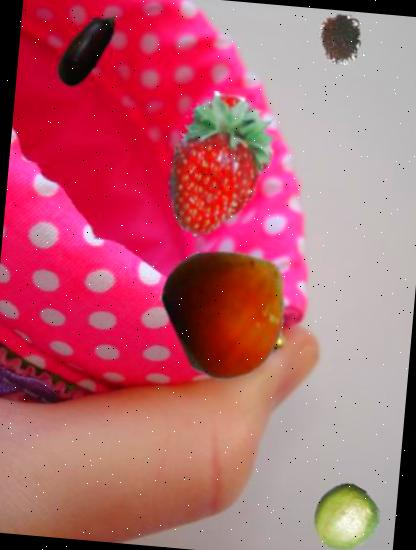Eggplant: (40, 1, 135, 96)
Limes: (309, 482, 382, 550)
Nut: (158, 237, 304, 382)
Rambutan: (312, 12, 368, 68)
Strawberry: (144, 87, 302, 246)
